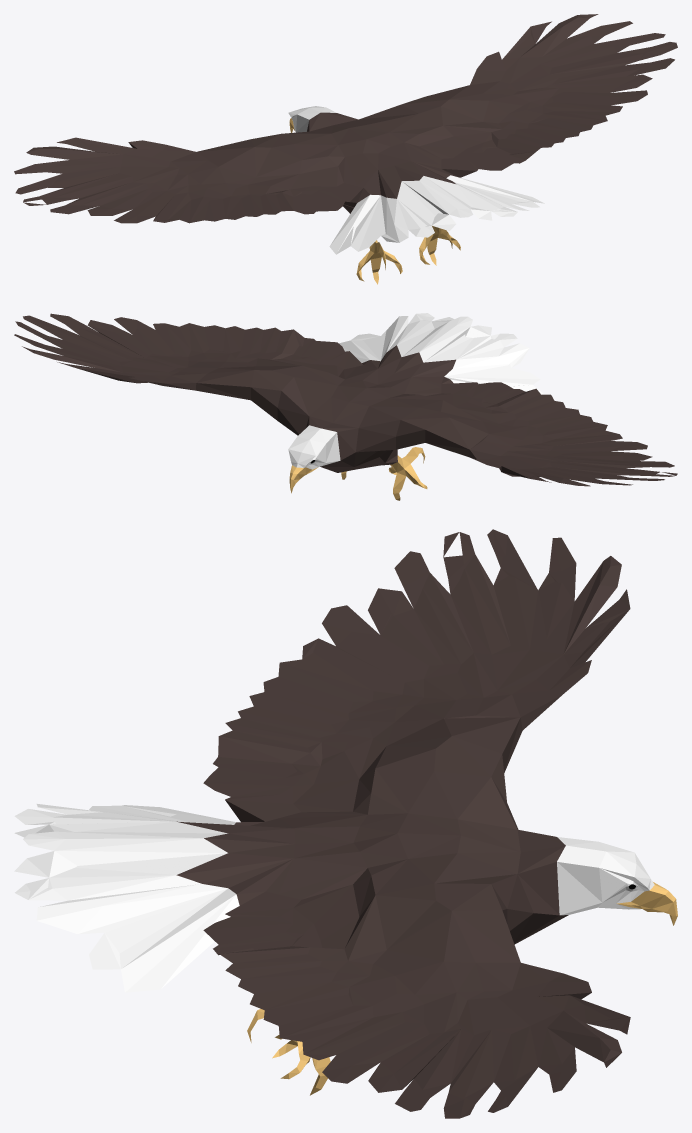
File: adlerFootOut07.dae
3 renders of one model, top to bottom at view 1: azimuth 30°, elevation 25°; view 2: azimuth 150°, elevation 25°; view 3: azimuth 270°, elevation 25°, orthographic. The views are drawn at different scales.
Parts seen in each view (by area): view 1: SketchUp (×5); view 2: SketchUp (×5); view 3: SketchUp (×5).
Part boxes in pixels (x1,y1,x2,y2): SketchUp (×5): [15, 14, 677, 284]; SketchUp (×5): [15, 313, 675, 500]; SketchUp (×5): [14, 529, 677, 1118].
Size of the model in its own units: 1475 by 706 by 302.
